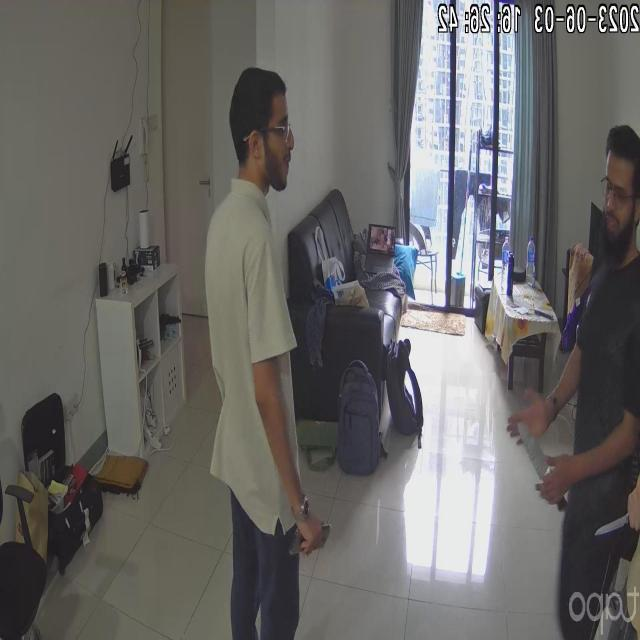Knife: (512, 388, 581, 527)
